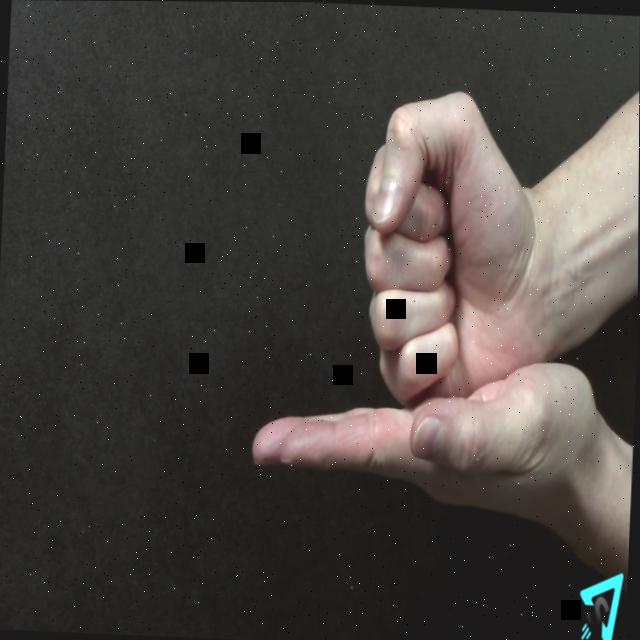Rock: (354, 82, 551, 412)
